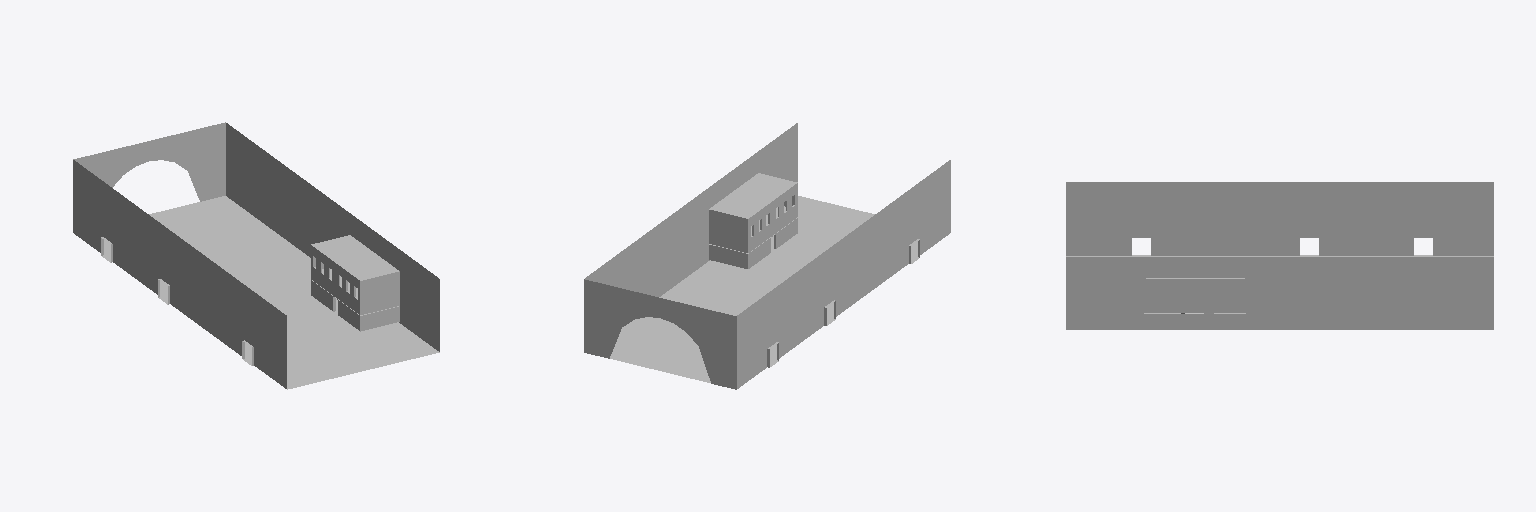
Rendered from hangar.obj.
3 views of the same model, side by side, from view 1: azimuth 30°, elevation 25°; view 2: azimuth 150°, elevation 25°; view 3: azimuth 270°, elevation 25° (orthographic).
Parts seen in each view (by area): view 1: Plane.002_Plane.008, Plane.006, Plane.003_Plane.005, Plane.004_Plane.001, Plane.013_Plane.015, Plane.008_Plane.010, Plane.007_Plane.009, Plane.001_Plane.003, Plane.005_Plane.007, Plane.012_Plane.014; view 2: Plane.002_Plane.008, Plane.003_Plane.005, Plane.006, Plane.004_Plane.001, Plane.012_Plane.014, Plane.013_Plane.015, Plane.008_Plane.010, Plane.001_Plane.003, Plane.010_Plane.012, Plane.005_Plane.007; view 3: Plane.006, Plane.003_Plane.005, Plane.004_Plane.001, Plane.009_Plane.011.
Boxes of the visible parts, x1,y1,x2,y2 form: Plane.002_Plane.008: [104, 196, 439, 389]; Plane.006: [226, 123, 439, 351]; Plane.003_Plane.005: [73, 160, 286, 370]; Plane.004_Plane.001: [73, 215, 286, 388]; Plane.013_Plane.015: [187, 122, 225, 201]; Plane.008_Plane.010: [311, 245, 359, 330]; Plane.007_Plane.009: [360, 271, 399, 331]; Plane.001_Plane.003: [111, 132, 186, 187]; Plane.005_Plane.007: [311, 235, 398, 280]; Plane.012_Plane.014: [73, 150, 110, 186]; Plane.002_Plane.008: [610, 196, 917, 382]; Plane.003_Plane.005: [737, 160, 950, 370]; Plane.006: [585, 123, 797, 296]; Plane.004_Plane.001: [737, 215, 950, 388]; Plane.012_Plane.014: [699, 307, 736, 389]; Plane.013_Plane.015: [584, 279, 621, 358]; Plane.008_Plane.010: [748, 183, 797, 268]; Plane.001_Plane.003: [622, 289, 698, 345]; Plane.010_Plane.012: [709, 210, 747, 268]; Plane.005_Plane.007: [709, 173, 797, 218]; Plane.006: [1066, 257, 1493, 329]; Plane.003_Plane.005: [1066, 182, 1493, 237]; Plane.004_Plane.001: [1066, 237, 1493, 255]; Plane.009_Plane.011: [1145, 279, 1245, 328].
Bounding box in the file's own units: 20.13 × 9.08 × 47.68.